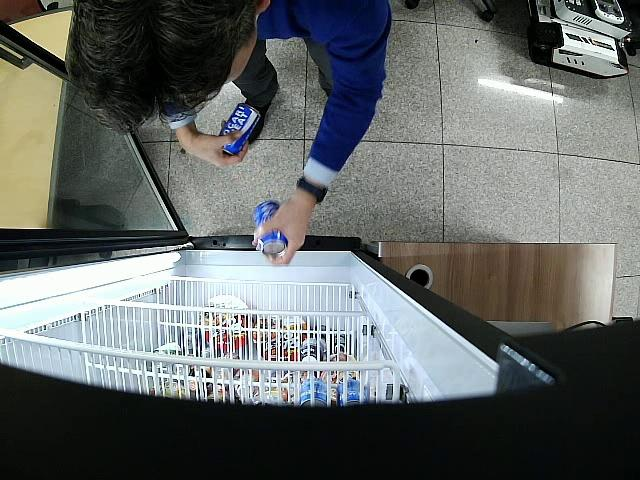00_hand: (252, 190, 314, 266), (175, 127, 249, 169)
13_pocariSweat: (218, 103, 260, 155), (252, 202, 286, 254)
